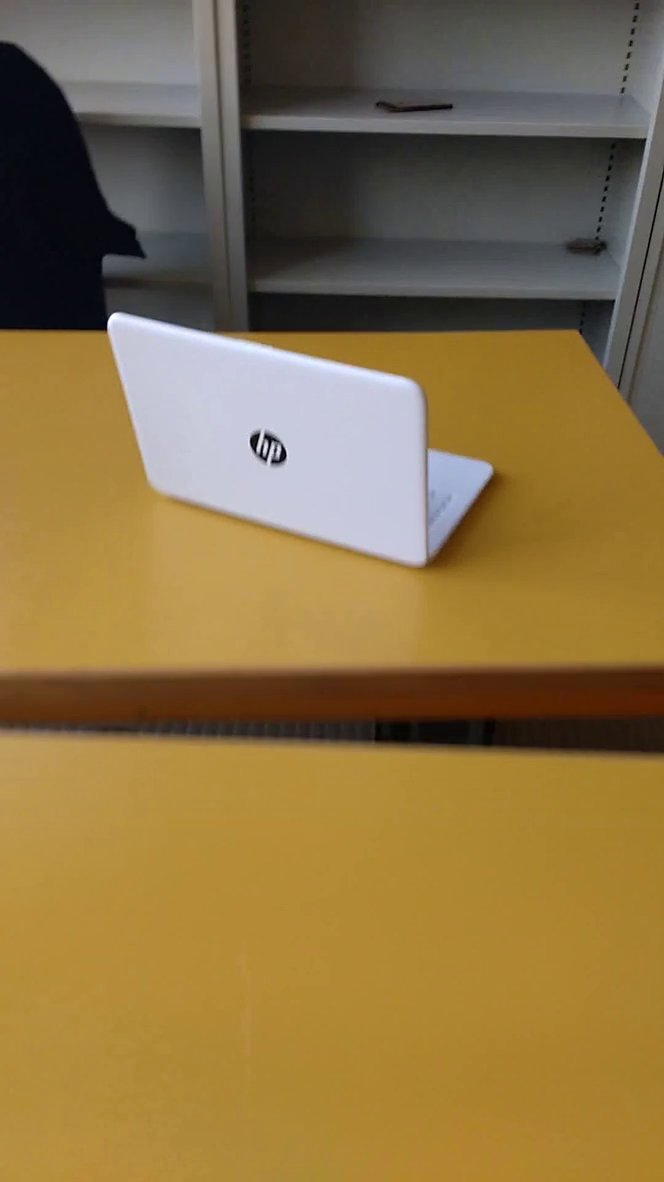laptop: (97, 298, 510, 580)
